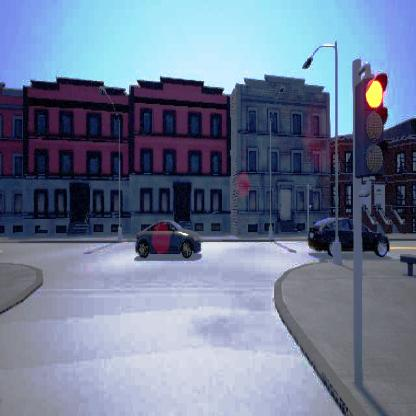vehicle: (306, 212, 390, 257), (134, 219, 201, 257)
